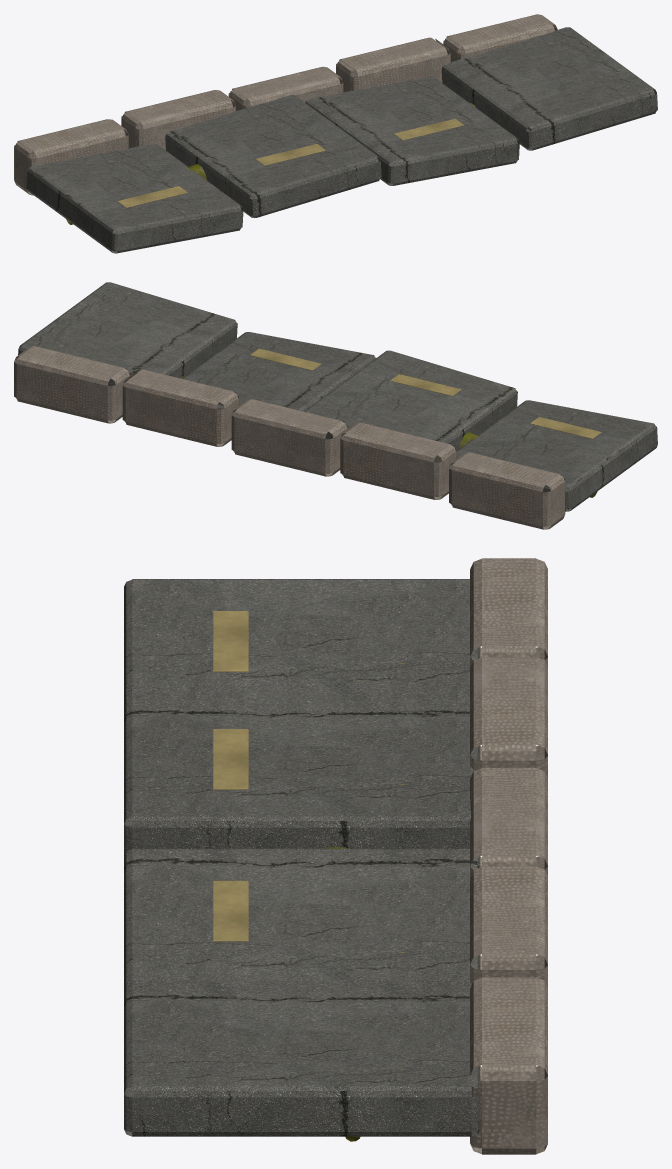
Rendered from lod1_NOT_APPROVED.glb.
3 renders of one model, top to bottom at view 1: azimuth 30°, elevation 25°; view 2: azimuth 150°, elevation 25°; view 3: azimuth 270°, elevation 25°, orthographic. The views are drawn at different scales.
Visible parts, largest first — view 1: f3_broken_asphalt_surface, f3_weathered_concrete_surface, f3_faded_safety_ochre_surface; view 2: f3_broken_asphalt_surface, f3_weathered_concrete_surface, f3_faded_safety_ochre_surface; view 3: f3_broken_asphalt_surface, f3_weathered_concrete_surface, f3_faded_safety_ochre_surface.
Part boxes in pixels (left/top/right/bottom): f3_broken_asphalt_surface: left=26, top=27, right=657, bottom=253; f3_weathered_concrete_surface: left=14, top=14, right=557, bottom=195; f3_faded_safety_ochre_surface: left=117, top=118, right=463, bottom=207; f3_broken_asphalt_surface: left=18, top=282, right=657, bottom=511; f3_weathered_concrete_surface: left=14, top=346, right=565, bottom=529; f3_faded_safety_ochre_surface: left=250, top=348, right=601, bottom=438; f3_broken_asphalt_surface: left=124, top=579, right=480, bottom=1136; f3_weathered_concrete_surface: left=470, top=558, right=547, bottom=1154; f3_faded_safety_ochre_surface: left=213, top=611, right=248, bottom=941.
Bounding box in the file's own units: 3.71 × 0.3324 × 1.25.
Materials: 4 (4 with a texture image).
